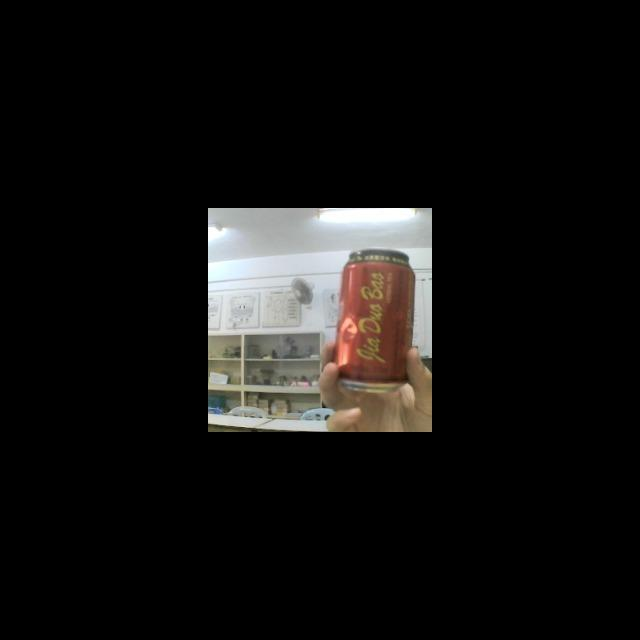metal: (334, 245, 417, 401)
